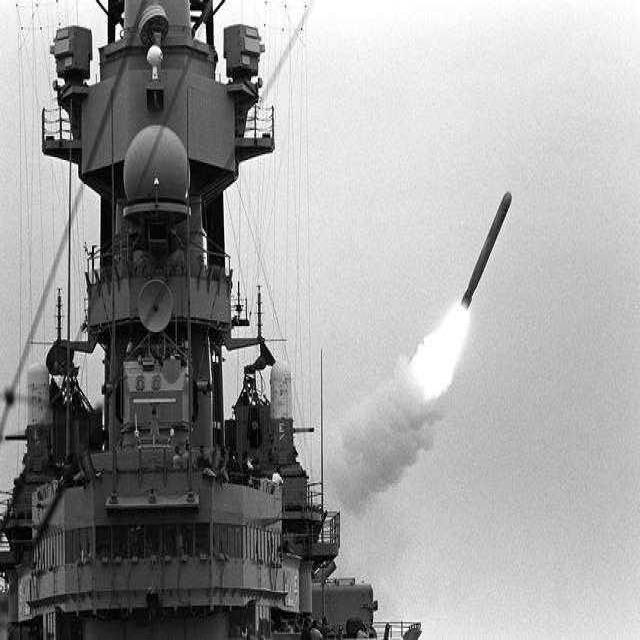missile: (461, 186, 514, 322)
